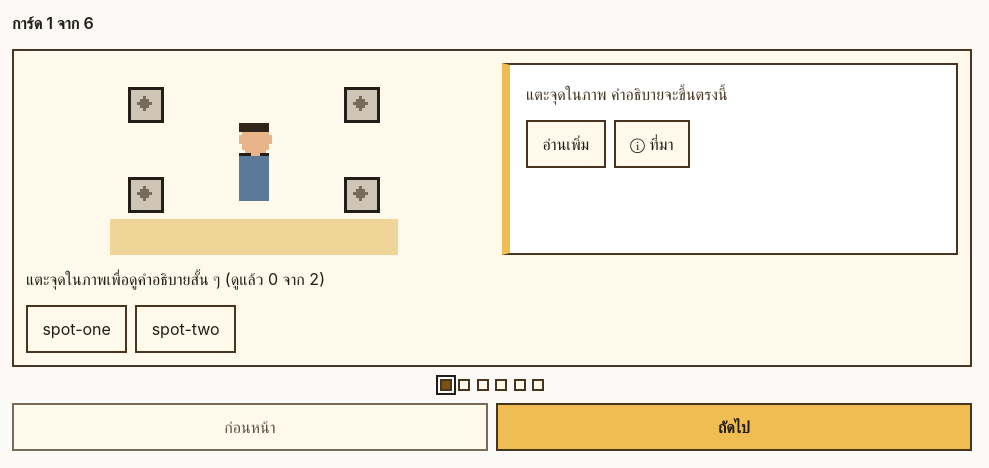
keeps the full claim behind read more and the sources behind the info button
The image size is (989, 468).
Expected: the text "tradition claim one" is not shown
Expected: the text "S41" is not shown
What coordinates should you click on to do the following:
click the button "อ่านเพิ่ม"
I would click on:
 (566, 144)
Its box is [526,120,606,168].
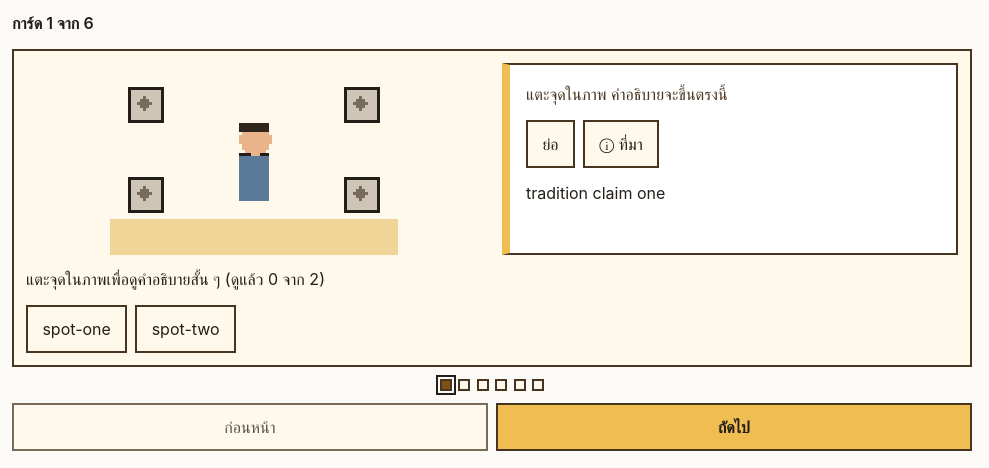
Result: the text "tradition claim one" is shown at [526,183,665,203]
What coordinates should you click on to do the following:
click the button "ⓘ ที่มา"
I would click on:
 (621, 144)
Its box is [583,120,659,168].
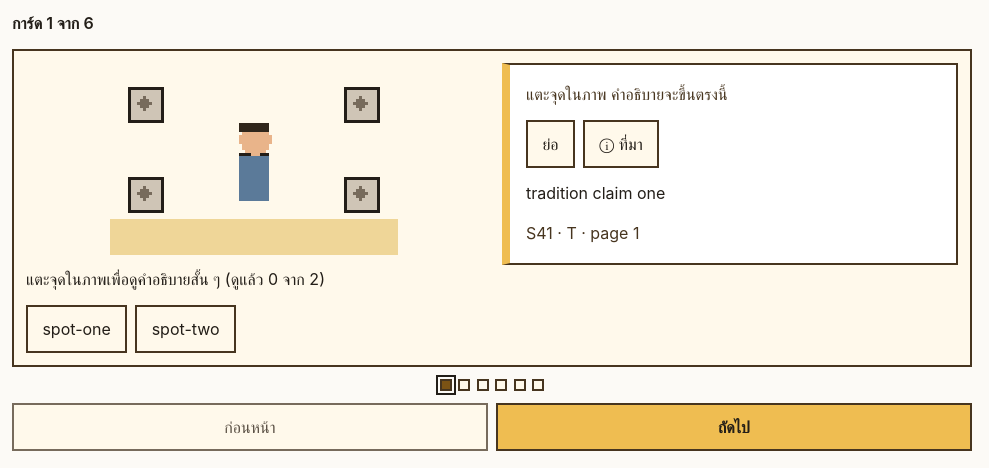
Result: the element "คำอธิบาย" shows "S41 · T · page 1" at [502,63,958,265]
